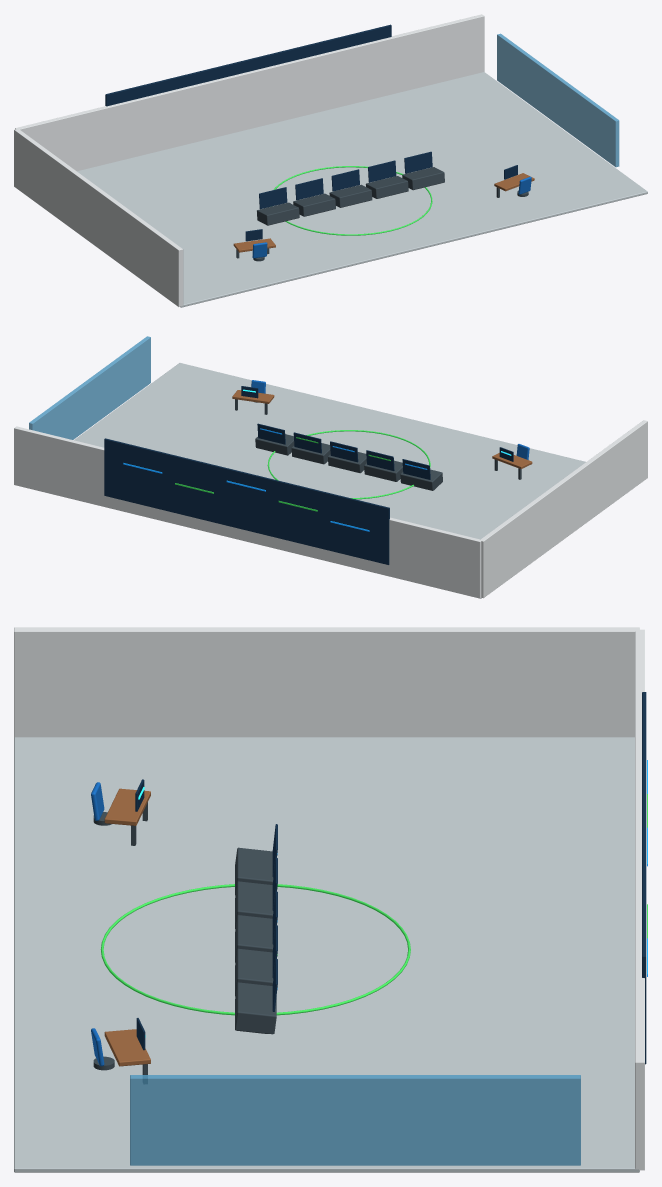
File: control-room.glb
The picture shows the model from 3 angles, top to bottom: view 1: azimuth 30°, elevation 25°; view 2: azimuth 150°, elevation 25°; view 3: azimuth 270°, elevation 25°; orthographic projection. The views are drawn at different scales.
Parts seen in each view (by area): view 1: control room floor plate, control room rear wall, control room left wall, control room right glass wall, control room main wall display, control room operator console arc console desk 1, control room operator console arc console desk 3, control room operator console arc console desk 4, control room operator console arc console desk 5, control room operator console arc console desk 2, control room alert floor ring, control room operator console arc screen 2 (+4 smaller); view 2: control room floor plate, control room main wall display, control room rear wall, control room left wall, control room right glass wall, control room operator console arc console desk 1, control room operator console arc console desk 5, control room alert floor ring, control room operator console arc console desk 4, control room operator console arc console desk 2, control room operator console arc console desk 3, control room operator console arc screen 1 (+4 smaller); view 3: control room floor plate, control room left wall, control room right glass wall, control room rear wall, control room alert floor ring, control room operator console arc console desk 5, control room main wall display, control room operator console arc console desk 2, control room operator console arc console desk 3, control room operator console arc console desk 4, control room operator console arc console desk 1, control room analyst desk desk top (+1 smaller).
Part boxes in pixels (box(x1,y1,x2,y2)): control room floor plate: box(77, 72, 647, 307); control room rear wall: box(15, 14, 484, 171); control room left wall: box(14, 129, 183, 306); control room right glass wall: box(497, 33, 619, 167); control room main wall display: box(105, 24, 391, 106); control room operator console arc console desk 1: box(257, 202, 299, 225); control room operator console arc console desk 3: box(329, 184, 372, 207); control room operator console arc console desk 4: box(365, 176, 408, 198); control room operator console arc console desk 5: box(402, 167, 444, 190); control room operator console arc console desk 2: box(293, 193, 335, 216); control room alert floor ring: box(273, 166, 432, 235); control room operator console arc screen 2: box(295, 178, 323, 200); control room floor plate: box(74, 363, 585, 598); control room main wall display: box(104, 438, 389, 564); control room rear wall: box(14, 426, 481, 598); control room left wall: box(480, 420, 647, 598); control room right glass wall: box(29, 336, 150, 439); control room operator console arc console desk 1: box(400, 469, 442, 490); control room operator console arc console desk 5: box(255, 434, 294, 455); control room alert floor ring: box(267, 430, 430, 499); control room operator console arc console desk 4: box(291, 443, 330, 464); control room operator console arc console desk 2: box(364, 460, 402, 481); control room operator console arc console desk 3: box(328, 452, 366, 473); control room operator console arc screen 1: box(402, 459, 430, 479); control room floor plate: box(14, 737, 639, 1172); control room left wall: box(14, 627, 639, 737); control room right glass wall: box(130, 1075, 580, 1165); control room rear wall: box(635, 629, 644, 1170); control room alert floor ring: box(100, 884, 410, 1015); control room operator console arc console desk 5: box(235, 982, 276, 1034); control room main wall display: box(642, 692, 646, 1064); control room operator console arc console desk 2: box(235, 881, 273, 928); control room operator console arc console desk 3: box(235, 915, 273, 962); control room operator console arc console desk 4: box(235, 948, 273, 996); control room operator console arc console desk 1: box(235, 847, 273, 895); control room analyst desk desk top: box(104, 1029, 150, 1066).
Bounding box in the file's own units: 36.33 × 5.14 × 22.28.
